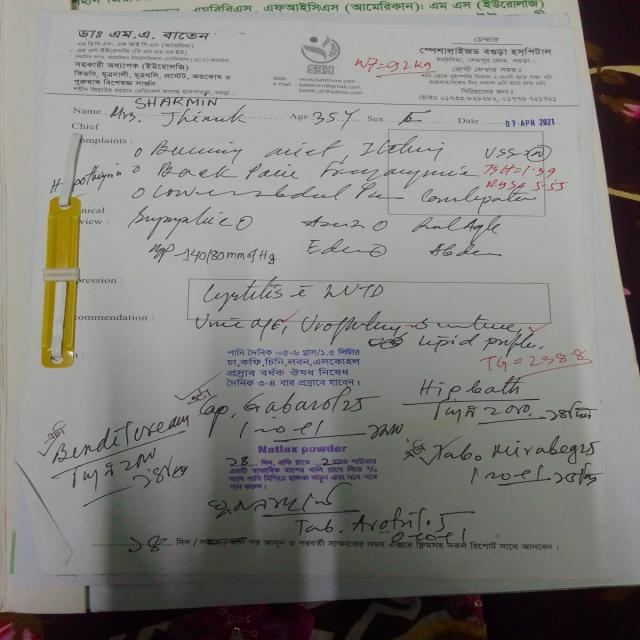Avotil: (348, 509, 427, 536)
Gabarol: (237, 392, 347, 420)
Mirabeg: (489, 440, 580, 464)
